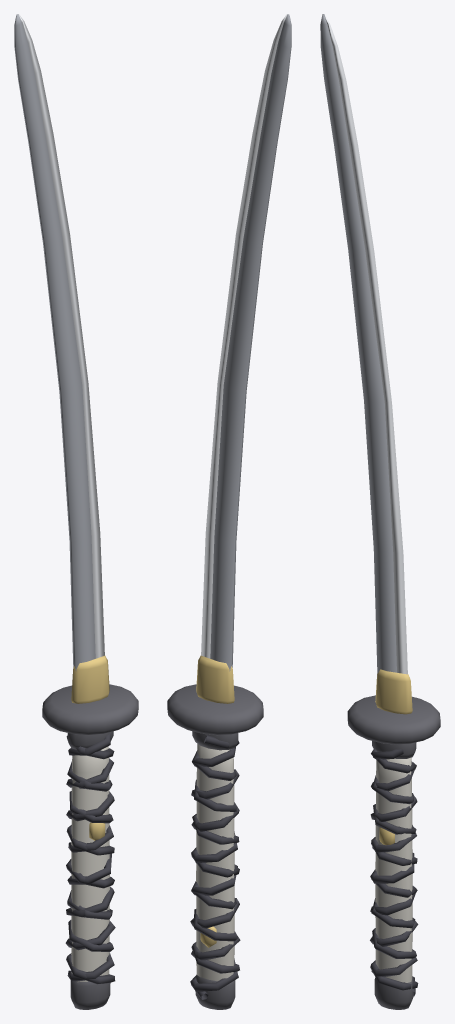
File: weapon_katana.glb
The picture shows the model from 3 angles, left to right: view 1: azimuth 30°, elevation 25°; view 2: azimuth 150°, elevation 25°; view 3: azimuth 330°, elevation 25°; orthographic projection. The views are drawn at different scales.
Visible parts, largest first — view 1: M_Weapon; view 2: M_Weapon; view 3: M_Weapon.
Part boxes in pixels (x1,y1,x2,y2): M_Weapon: (14,14,138,1009); M_Weapon: (167,14,291,1009); M_Weapon: (320,14,440,1009).
Bounding box in the file's own units: 0.1295 × 1.05 × 0.0833.
